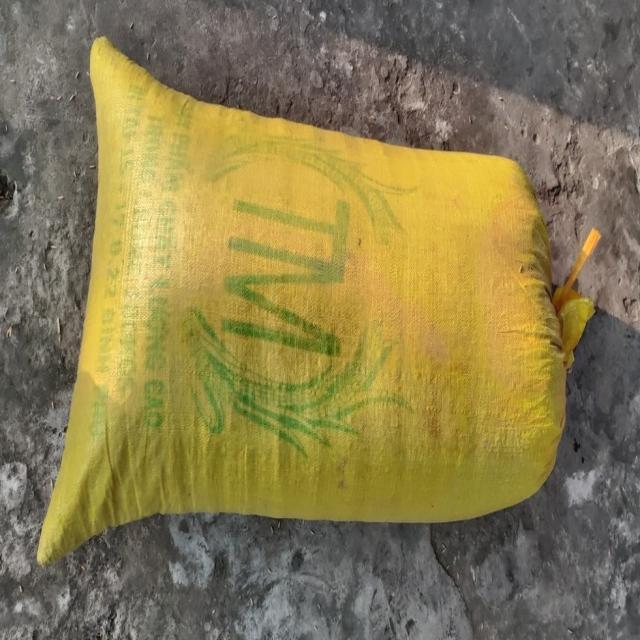gunny_bag: (37, 37, 575, 565)
